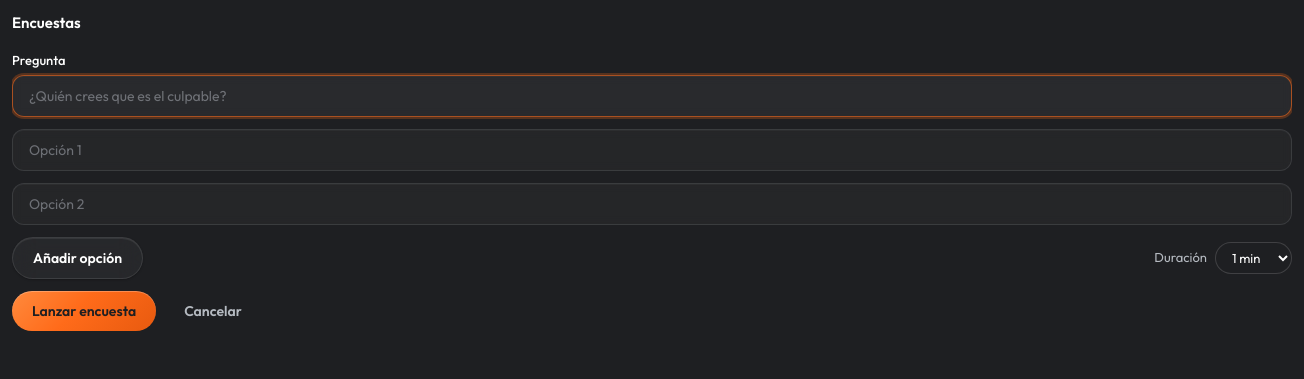
Test: PollPanel — host › si no se pudo enviar mantiene el formulario abierto
The image size is (1304, 379).
Step 1. Type "¿?" into the field labelled "Pregunta" → [652, 96], box [12, 74, 1292, 116]
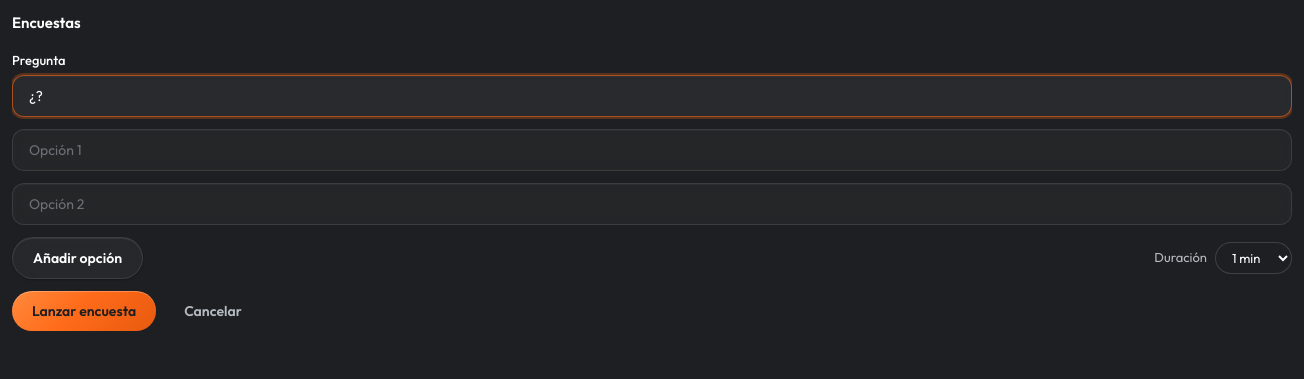
Step 2. Type "a" into the field labelled "Opción 1" → [652, 150], box [12, 128, 1292, 170]
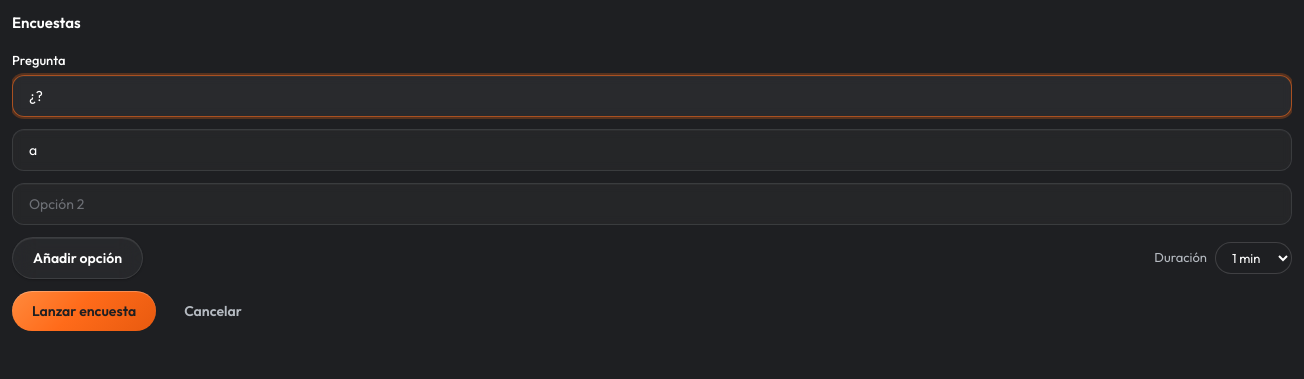
Step 3. Type "b" into the field labelled "Opción 2" → [652, 204], box [12, 182, 1292, 224]
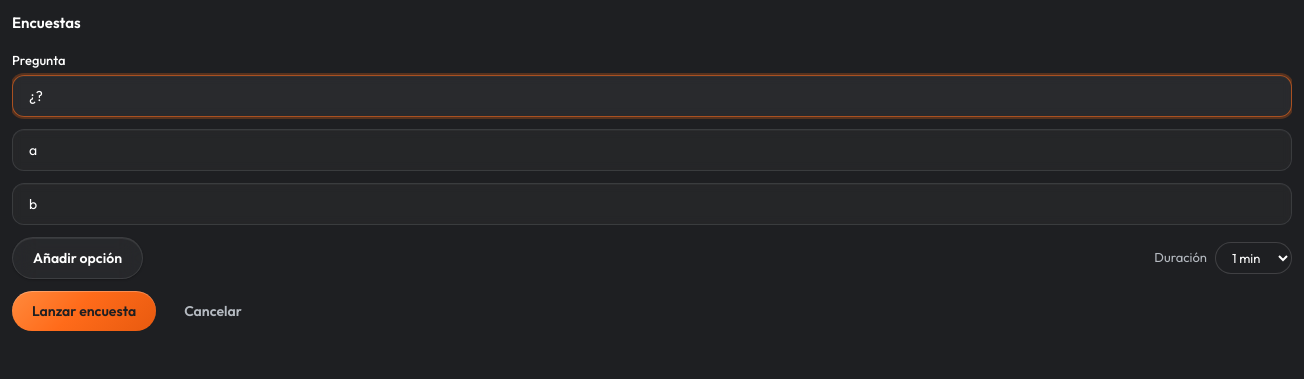
Step 4. Click the button "Lanzar encuesta" → [84, 310], box [12, 290, 156, 330]
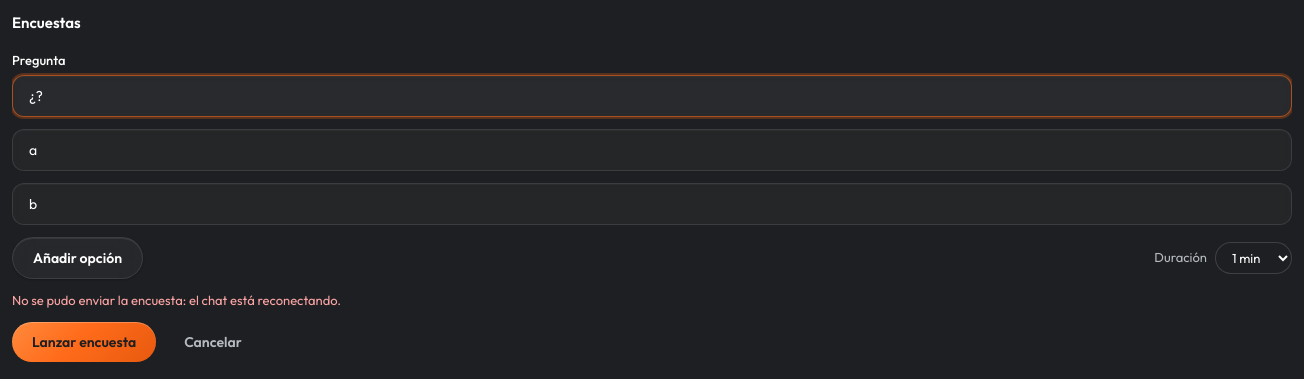
Check: the message shows "No se pudo enviar la encuesta", box [12, 292, 341, 308]
